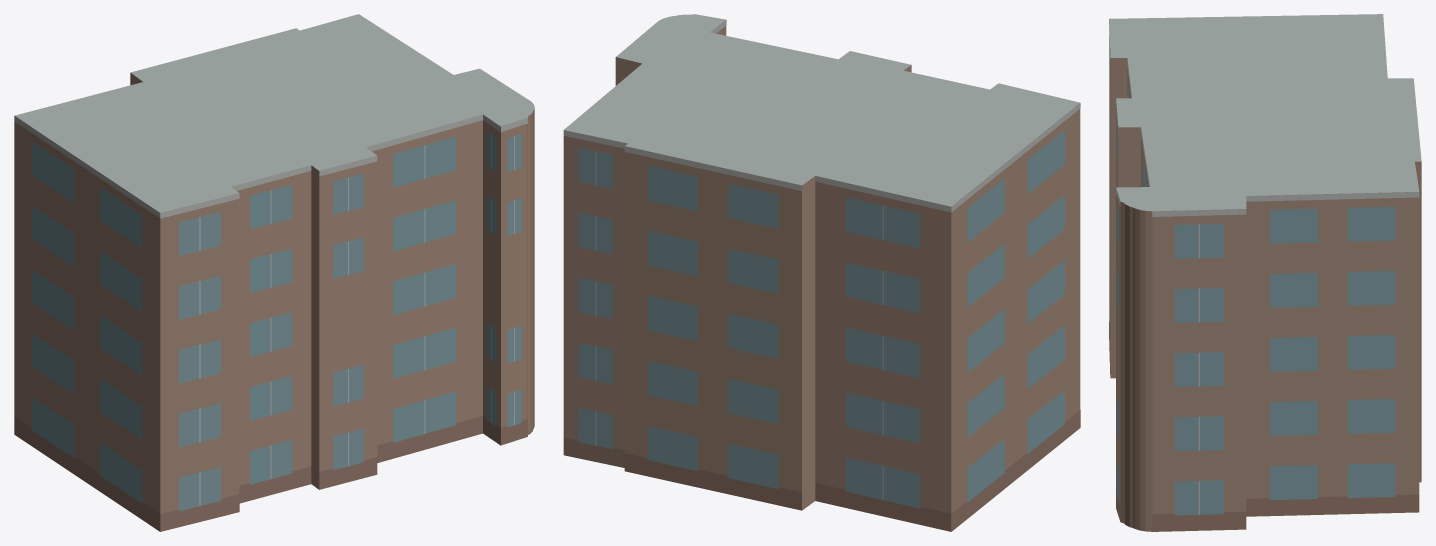
The model's file is survey-upis-32617612.glb.
3 views of the same model, side by side, from view 1: azimuth 30°, elevation 25°; view 2: azimuth 150°, elevation 25°; view 3: azimuth 270°, elevation 25° (orthographic).
Parts seen in each view (by area): view 1: survey-upis-32617612.tmp; view 2: survey-upis-32617612.tmp; view 3: survey-upis-32617612.tmp.
Part boxes in pixels (x1,y1,x2,y2): survey-upis-32617612.tmp: (14, 14, 534, 531); survey-upis-32617612.tmp: (563, 14, 1080, 531); survey-upis-32617612.tmp: (1109, 14, 1421, 531).
Size of the model in its own units: 18.14 by 13.74 by 12.15.
